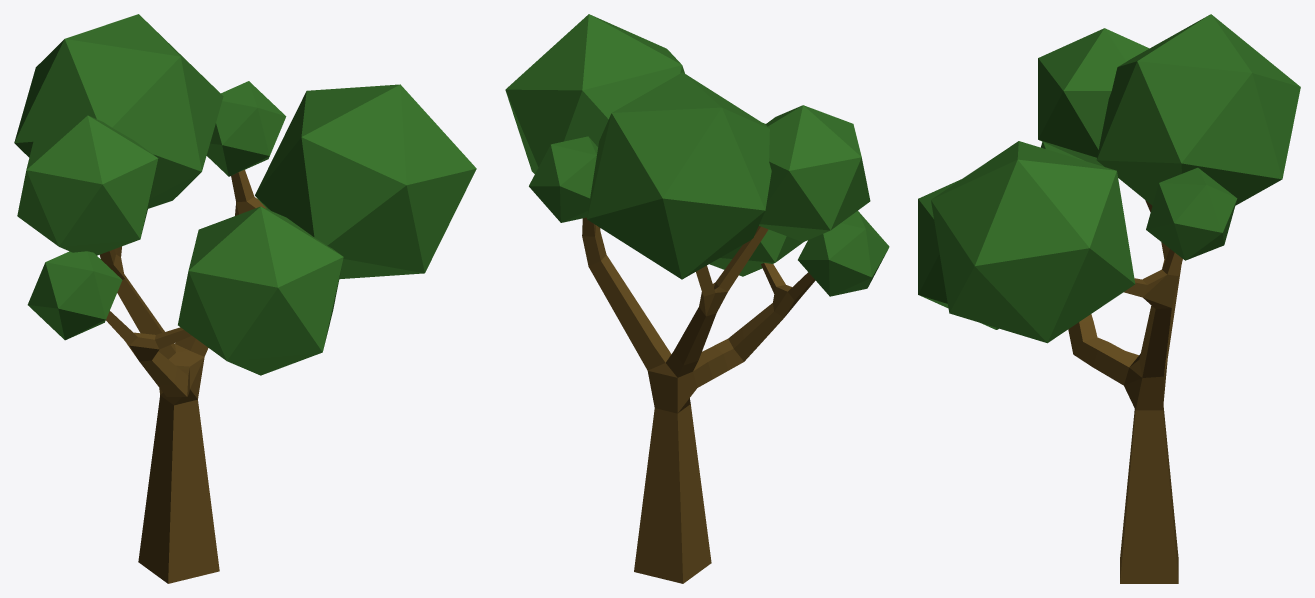
File: TREE3.fbx
3 renders of one model, left to right at view 1: azimuth 30°, elevation 25°; view 2: azimuth 150°, elevation 25°; view 3: azimuth 270°, elevation 25°, orthographic. The views are drawn at different scales.
Visible parts, largest first — view 1: Icosphere.003, Icosphere.004, Icosphere.001, Cube, Icosphere, Icosphere.002, Icosphere.005; view 2: Icosphere.004, Cube, Icosphere.003, Icosphere, Icosphere.002, Icosphere.005, Icosphere.001; view 3: Icosphere.003, Icosphere.004, Cube, Icosphere, Icosphere.005, Icosphere.001.
Boxes of the visible parts, x1,y1,x2,y2 form: Icosphere.003: (255, 84, 476, 279); Icosphere.004: (14, 14, 223, 208); Icosphere.001: (178, 206, 343, 375); Cube: (100, 169, 266, 583); Icosphere: (17, 115, 158, 255); Icosphere.002: (27, 251, 122, 340); Icosphere.005: (206, 81, 286, 176); Icosphere.004: (587, 72, 771, 279); Cube: (582, 217, 815, 583); Icosphere.003: (505, 14, 684, 173); Icosphere: (759, 105, 870, 241); Icosphere.002: (798, 211, 889, 296); Icosphere.005: (529, 136, 597, 222); Icosphere.001: (709, 123, 803, 276); Icosphere.003: (931, 141, 1135, 343); Icosphere.004: (1096, 14, 1300, 205); Cube: (1068, 200, 1182, 583); Icosphere: (1038, 28, 1149, 166); Icosphere.005: (1146, 167, 1237, 260); Icosphere.001: (918, 179, 998, 329).
Bounding box in the file's own units: 715 × 922 × 618.
